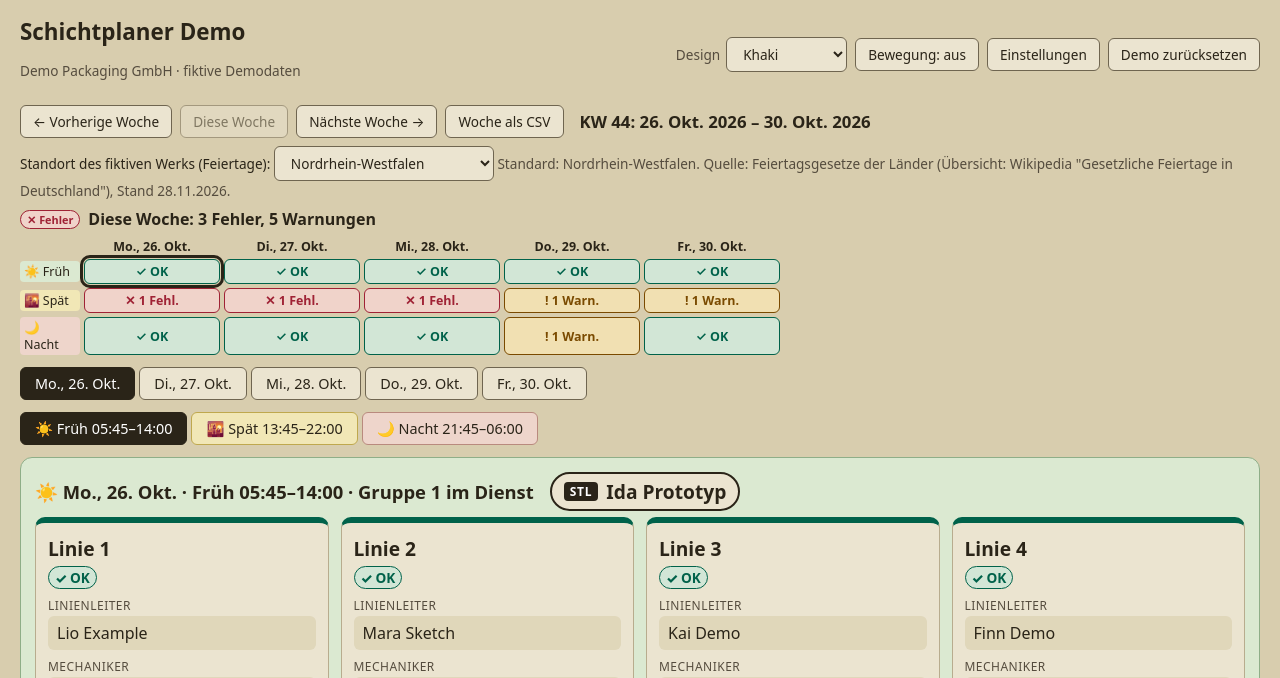
it: demo reset confirmation › backdrop click cancels the reset
Click the button with aria-label ": Fehler," at (152, 301), box 84,288 -> 220,313
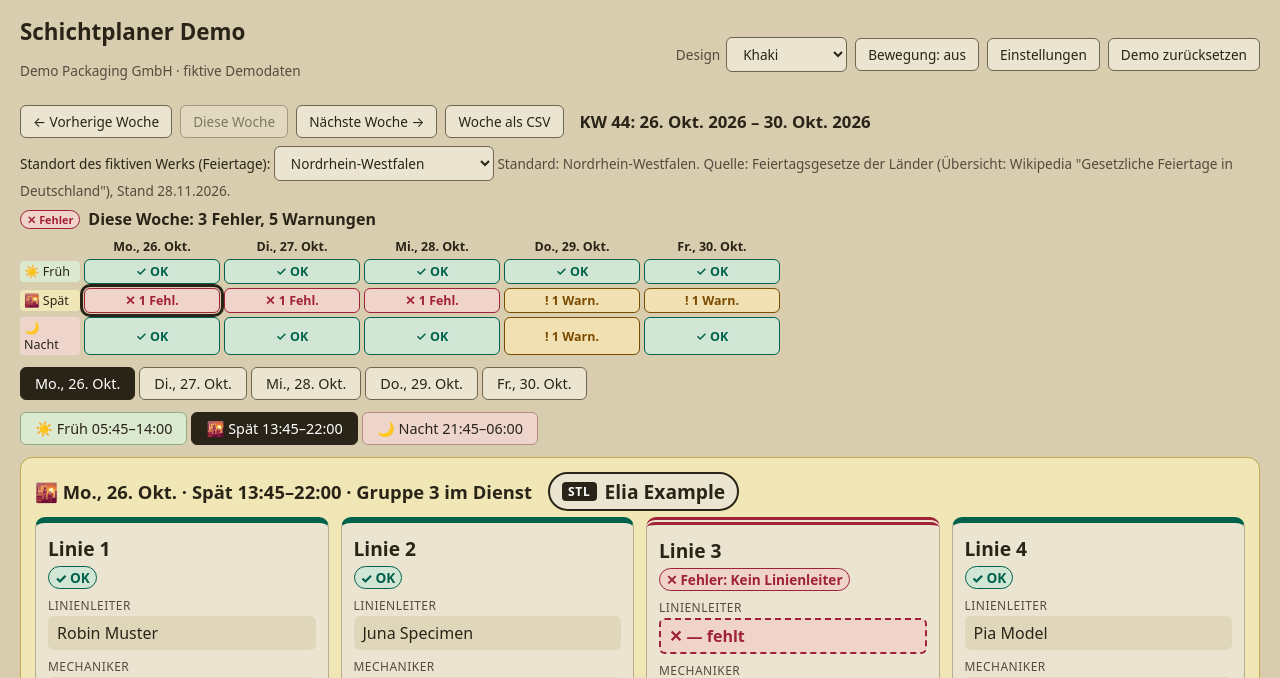
Click the button with aria-label "Vertretung finden" at (716, 636), box 659,618 -> 926,654
(page scrolled)
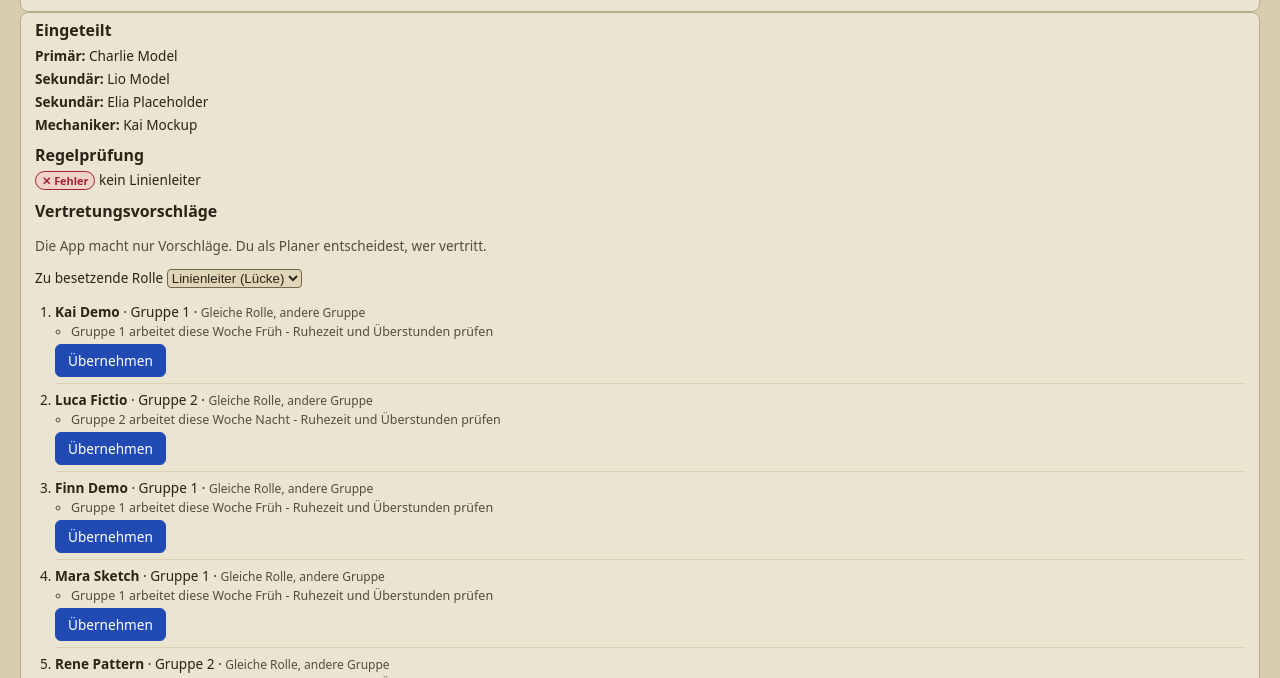
Click the button " übernehmen" below "Kai Demo" at (110, 360), box 55,344 -> 166,377
(page scrolled)
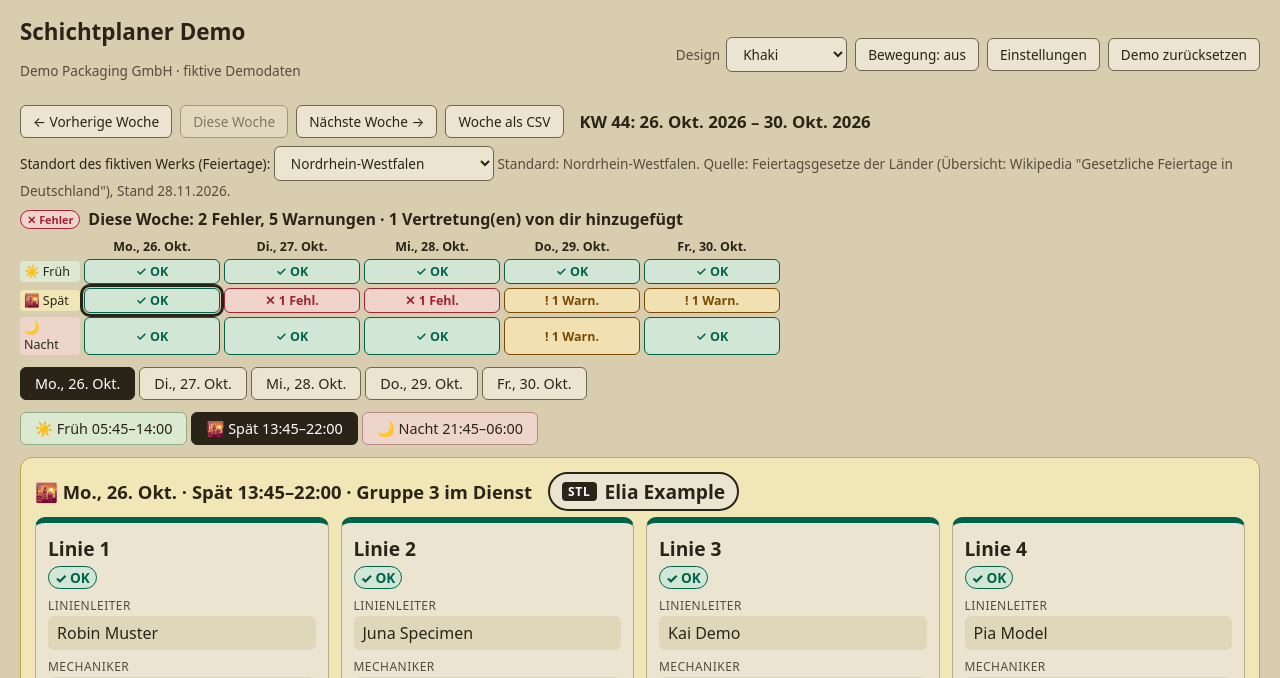
Check: the text "von dir hinzugefügt" is shown, box 376,208 -> 683,230
Click the button "Demo zurücksetzen" at (1184, 55), box 1108,38 -> 1260,71
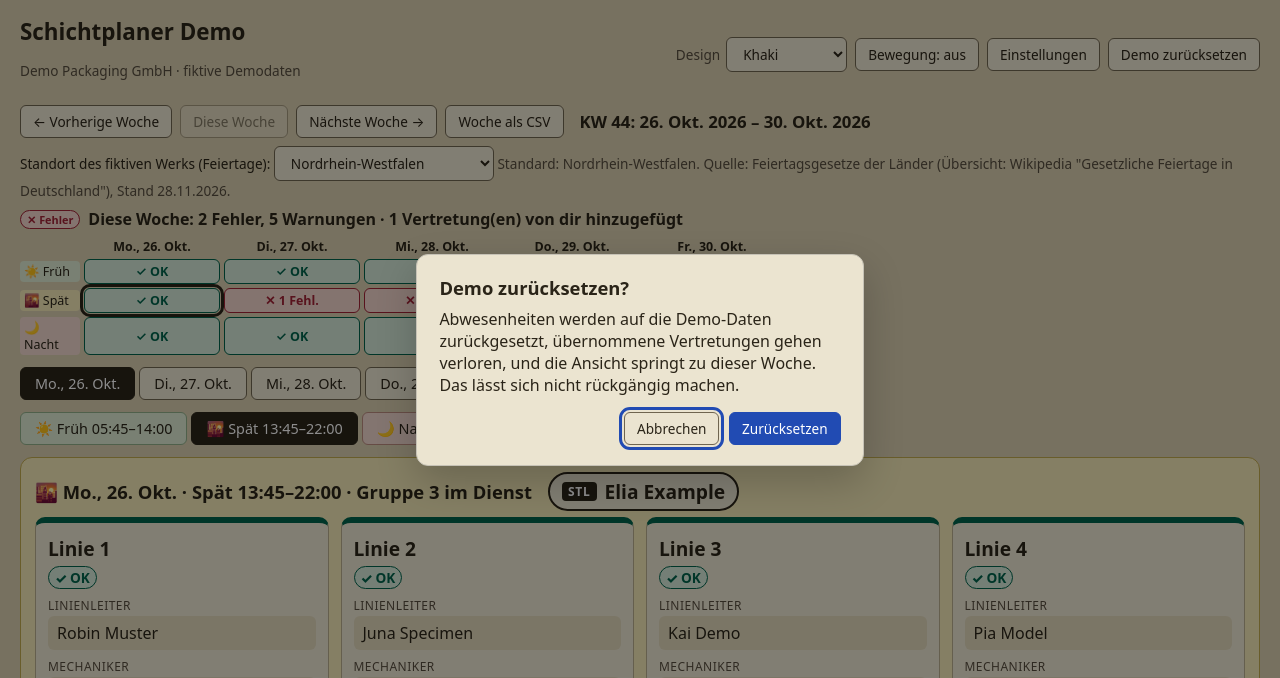
Click the dialog "Demo zurücksetzen?" at (640, 360), box 416,254 -> 864,466
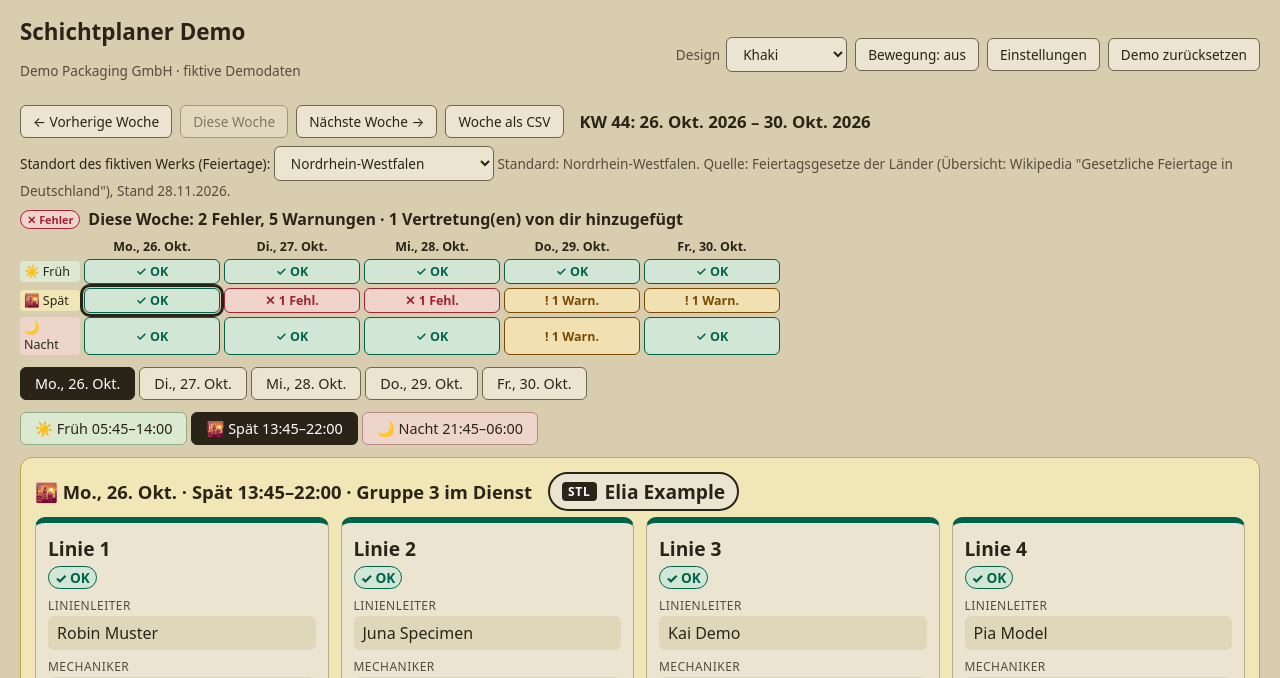
Check: the text "von dir hinzugefügt" is shown, box 376,208 -> 683,230
Check: the dialog is gone
